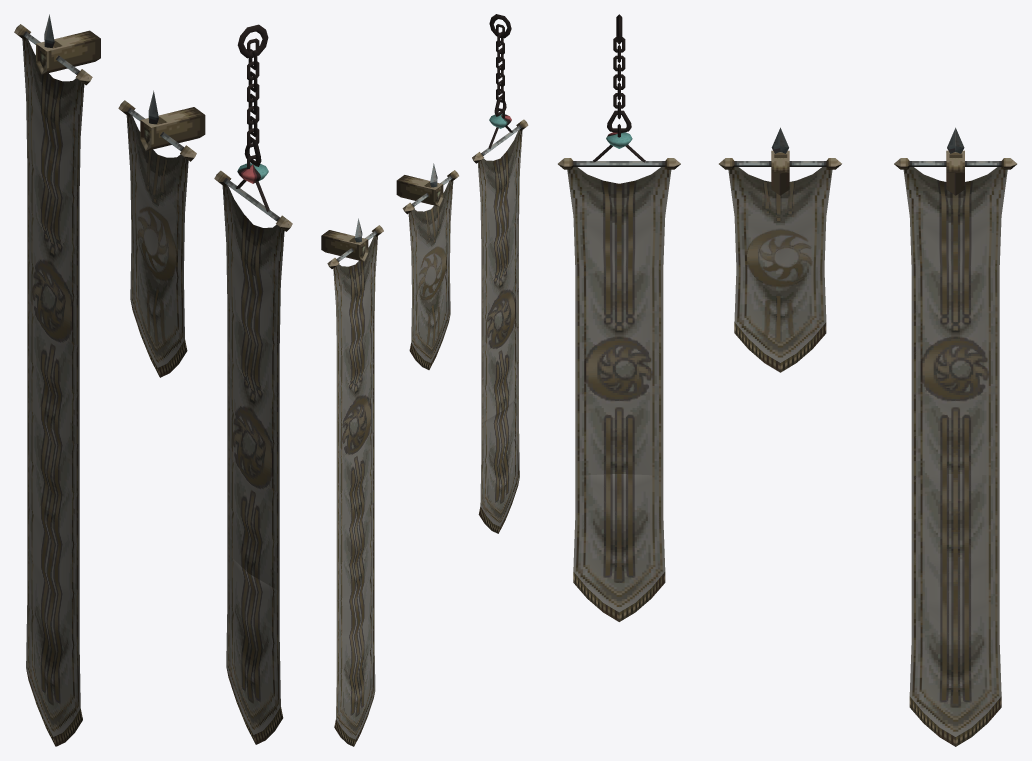
File: EnvMdrMD_Ruins_D_Flag_A.FBX
3 views of the same model, side by side, from view 1: azimuth 30°, elevation 25°; view 2: azimuth 150°, elevation 25°; view 3: azimuth 270°, elevation 25° (orthographic). The views are drawn at different scales.
Parts seen in each view (by area): view 1: EnvMdrMD_Ruins_D_Flag_B, EnvMdrMD_Ruins_D_Flag_C, EnvMdrMD_Ruins_D_Flag_A; view 2: EnvMdrMD_Ruins_D_Flag_B, EnvMdrMD_Ruins_D_Flag_C, EnvMdrMD_Ruins_D_Flag_A; view 3: EnvMdrMD_Ruins_D_Flag_B, EnvMdrMD_Ruins_D_Flag_C, EnvMdrMD_Ruins_D_Flag_A.
Boxes of the visible parts, x1,y1,x2,y2 form: EnvMdrMD_Ruins_D_Flag_B: (14,14,100,746); EnvMdrMD_Ruins_D_Flag_C: (214,24,292,744); EnvMdrMD_Ruins_D_Flag_A: (118,90,205,377); EnvMdrMD_Ruins_D_Flag_B: (321,218,383,746); EnvMdrMD_Ruins_D_Flag_C: (472,14,528,533); EnvMdrMD_Ruins_D_Flag_A: (396,163,458,369); EnvMdrMD_Ruins_D_Flag_B: (894,127,1016,746); EnvMdrMD_Ruins_D_Flag_C: (558,14,680,621); EnvMdrMD_Ruins_D_Flag_A: (719,127,841,372).
Bounding box in the file's own units: 122 × 1754 × 1003.
Materials: 1 (1 with a texture image).
